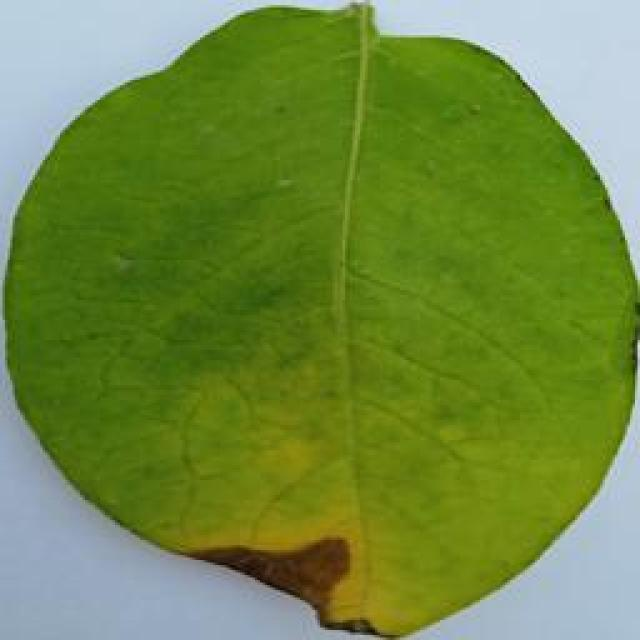Potato_Late_Blight: (8, 3, 627, 634)
